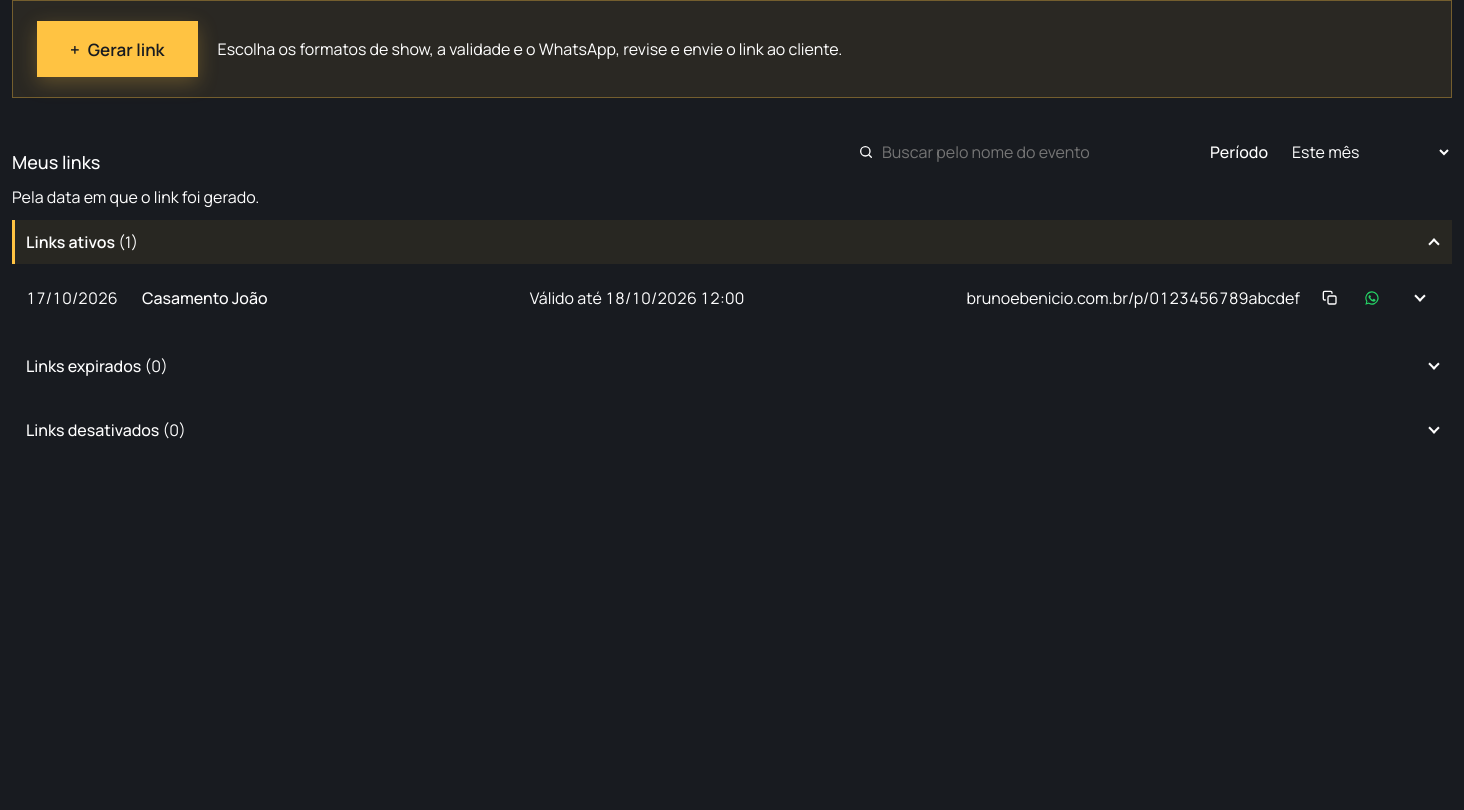
Scenario: Links comerciais (vendedor) › detalhes: só os próprios links, com WhatsApp gravado e redirecionamento; sem preço padrão
The width and height of the screenshot is (1464, 810).
Expected: the heading "Meus links" is shown, [12, 150, 100, 174]
Click the button named "Ver detalhes do link Casamento João" at (1420, 298), box [1402, 280, 1438, 316]
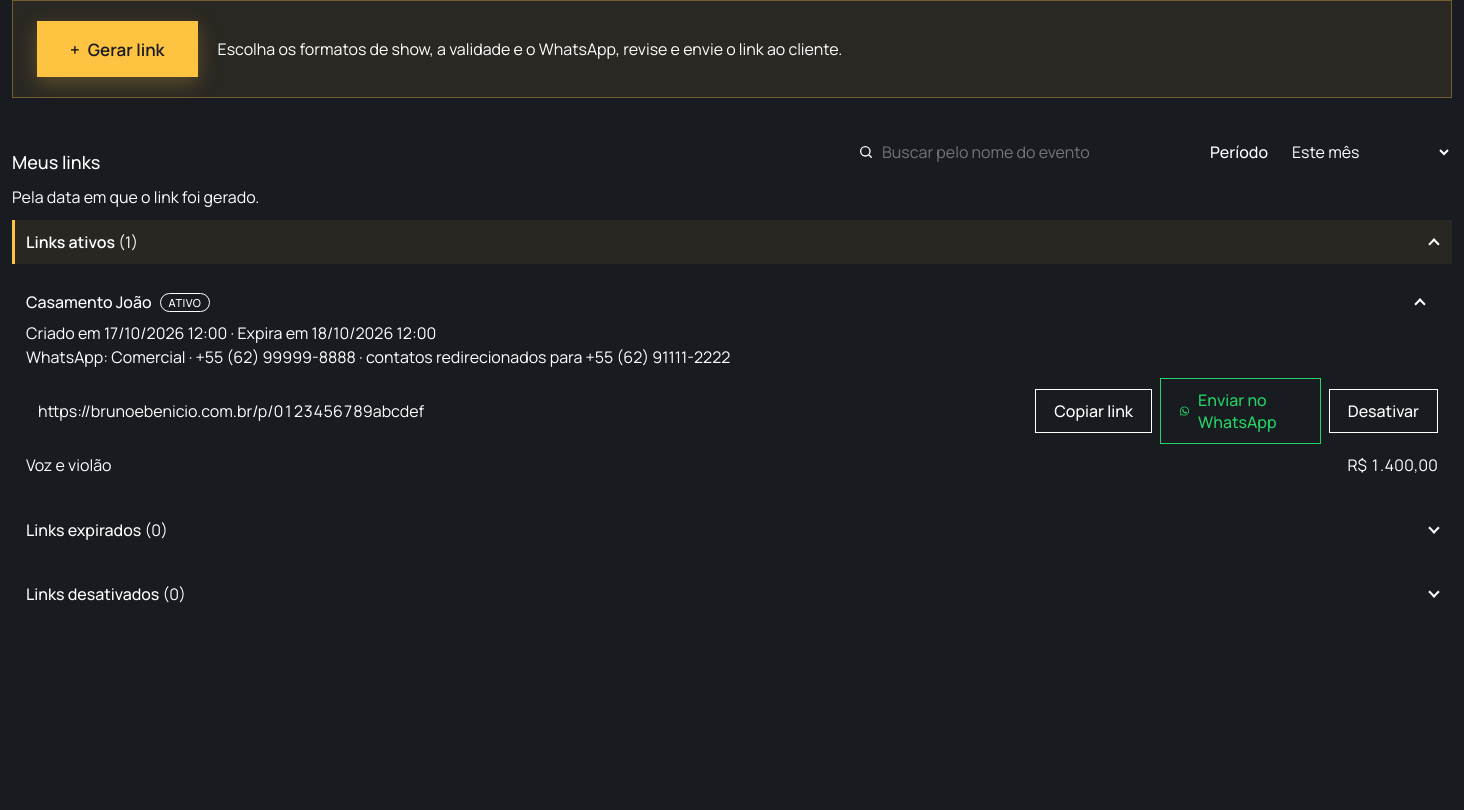
Expected: the list item shows "WhatsApp: Comercial · +55 (62) 99999-8888", [26, 346, 730, 368]
Expected: the list item shows "redirecionados para +55 (62) 91111-2222", [26, 346, 730, 368]
Expected: the list item shows "1.400,00", [1348, 454, 1438, 476]
